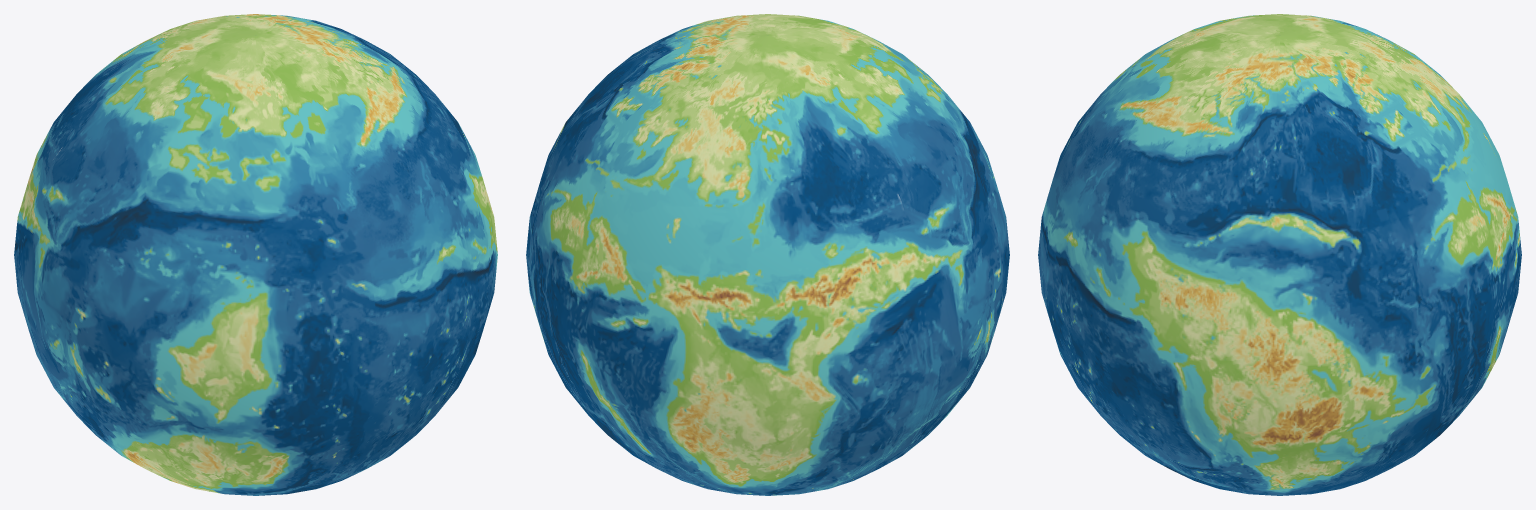
3 views of the same model, side by side, from view 1: azimuth 30°, elevation 25°; view 2: azimuth 150°, elevation 25°; view 3: azimuth 270°, elevation 25° (orthographic).
Parts seen in each view (by area): view 1: Sphere; view 2: Sphere; view 3: Sphere.
Boxes of the visible parts, bbox=[...] form: Sphere: bbox=[14, 14, 497, 495]; Sphere: bbox=[526, 14, 1009, 495]; Sphere: bbox=[1038, 14, 1521, 495].
Bounding box in the file's own units: 10 × 10 × 10.
1 material, 1 textured.
